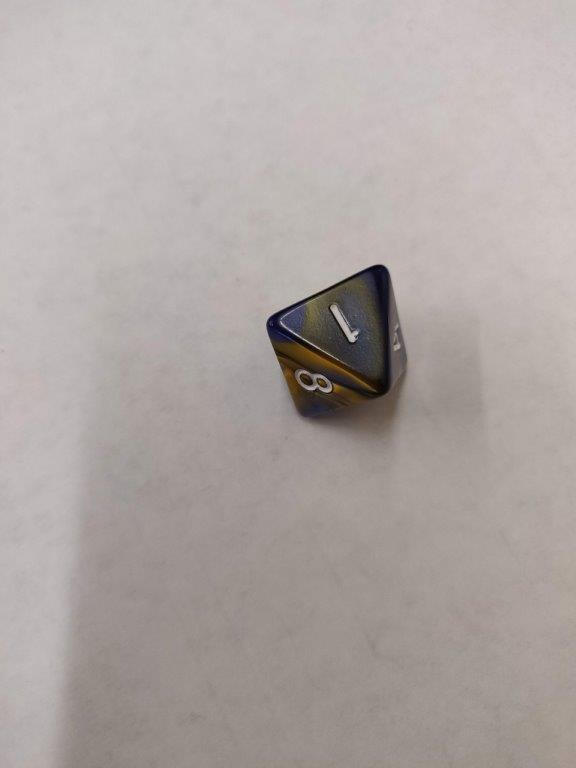d8-1: (267, 261, 410, 422)
